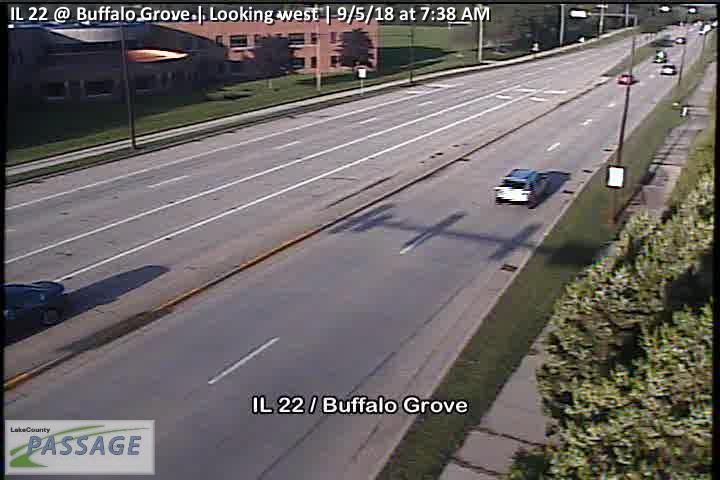SUV: (494, 168, 550, 204), (659, 63, 675, 75)
Sedan: (5, 281, 69, 338), (618, 72, 634, 85)
